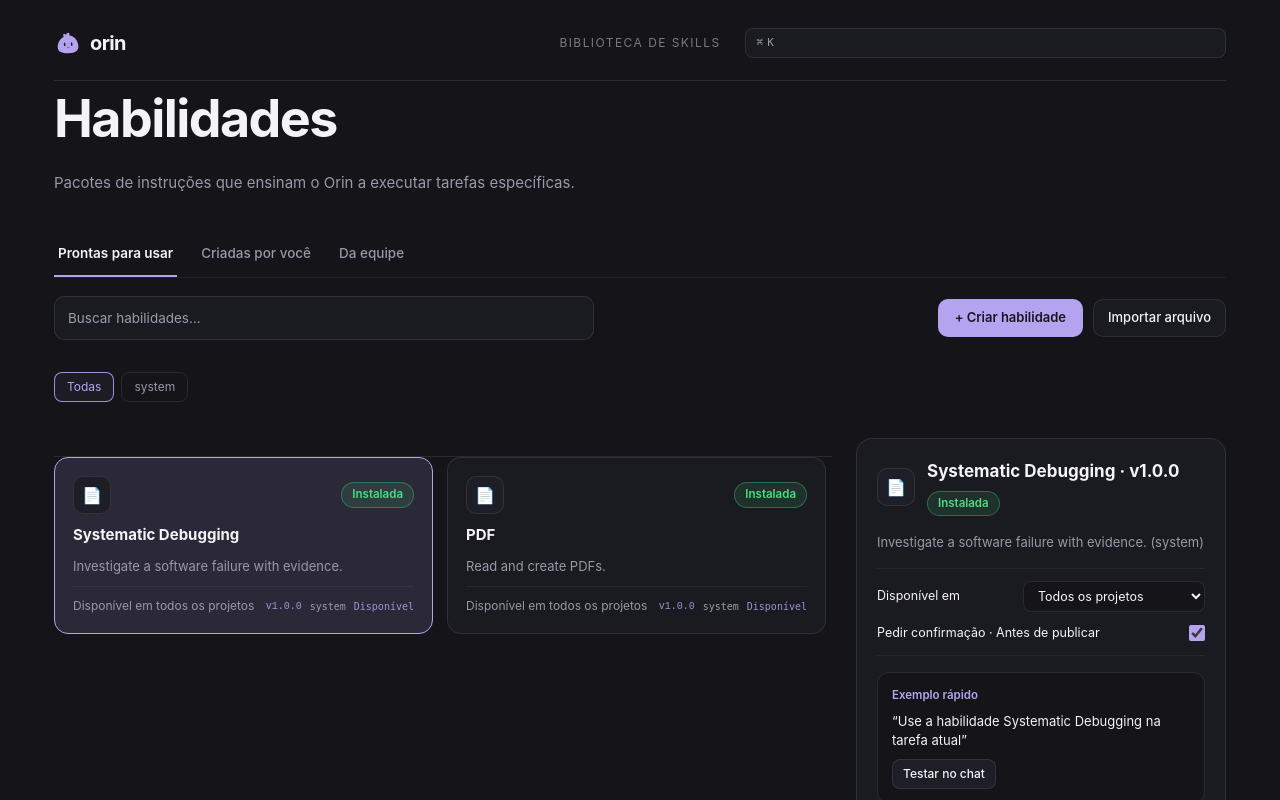
Scenario: SkillsPage › shows the required instructions field before advanced creation options
This screenshot has width=1280, height=800.
Expected: the link "Systematic Debugging" is shown, x1=73 y1=525 x2=239 y2=544
Click the button with aria-label "Criar skill" at (1010, 318), box x1=938 y1=299 x2=1083 y2=337
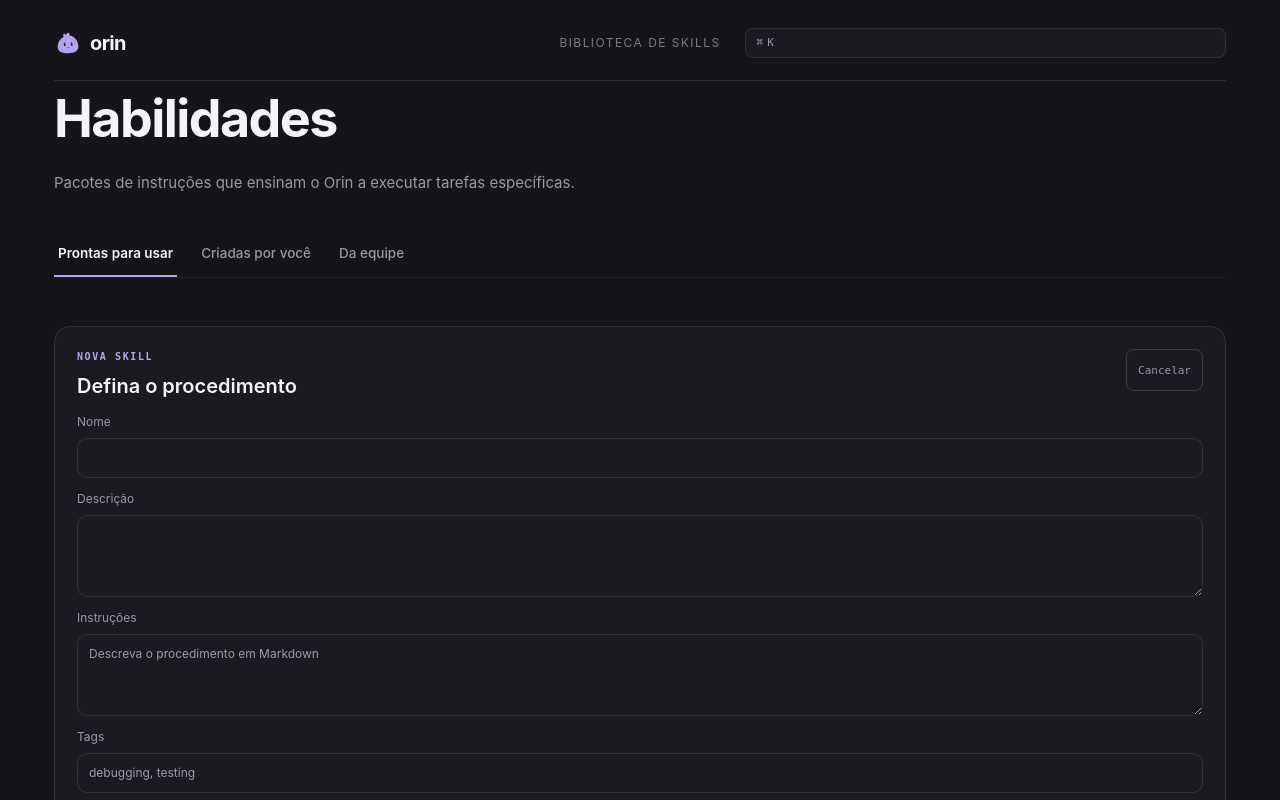
Expected: the field labelled "Tags" is shown, x1=77 y1=753 x2=1203 y2=793
Expected: the text box labelled "Instruções" is shown, x1=77 y1=634 x2=1203 y2=716
